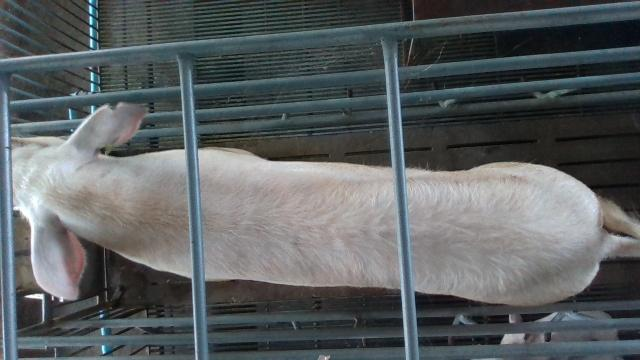piglet: (502, 310, 619, 344)
sow-stand-feed: (11, 103, 640, 302)
